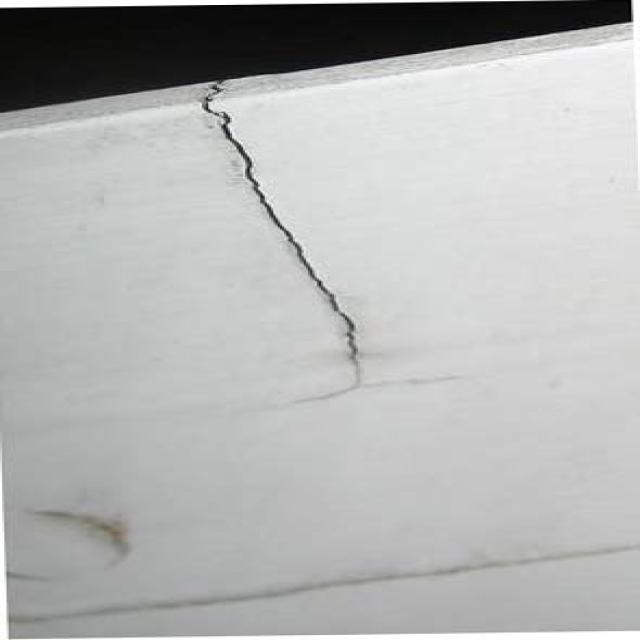Rupture: (154, 80, 438, 428)
